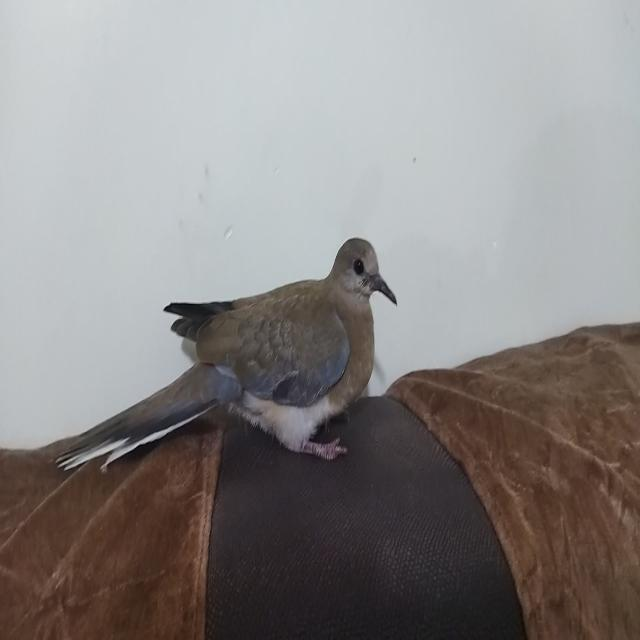dove: (54, 235, 401, 480)
